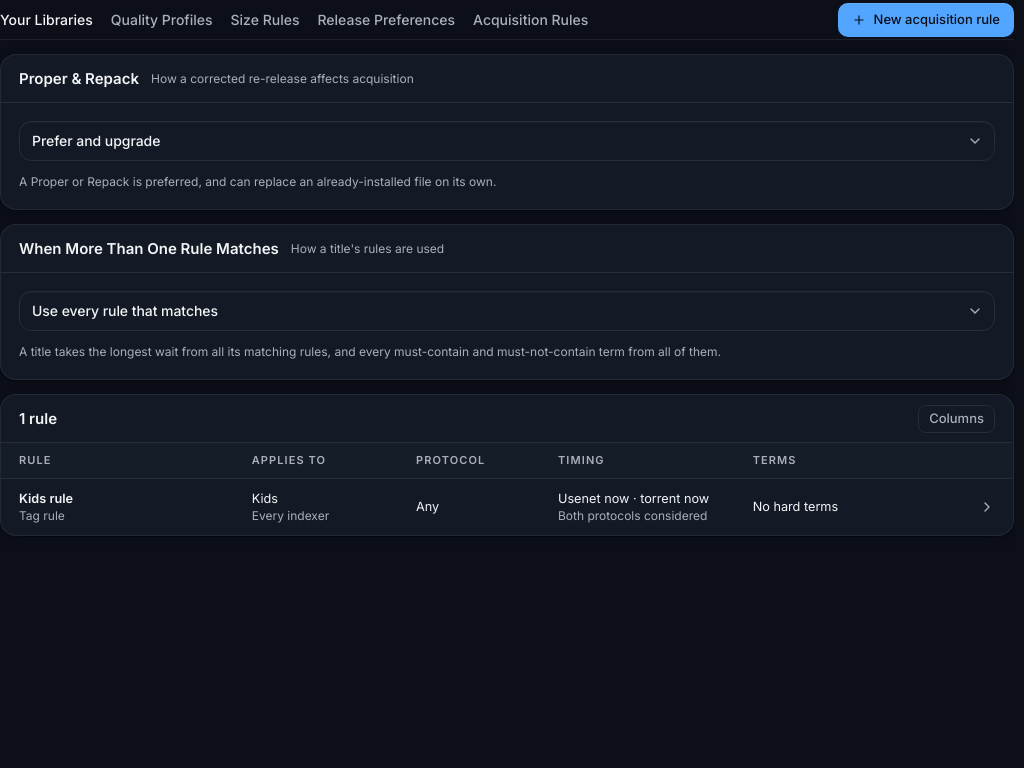
it: acquisition rule drawer › edits an existing rule with PUT to that rule's address and the drawer stays open on it
The width and height of the screenshot is (1024, 768).
Click the text "Kids rule" at (46, 498), box 19,491 -> 73,506
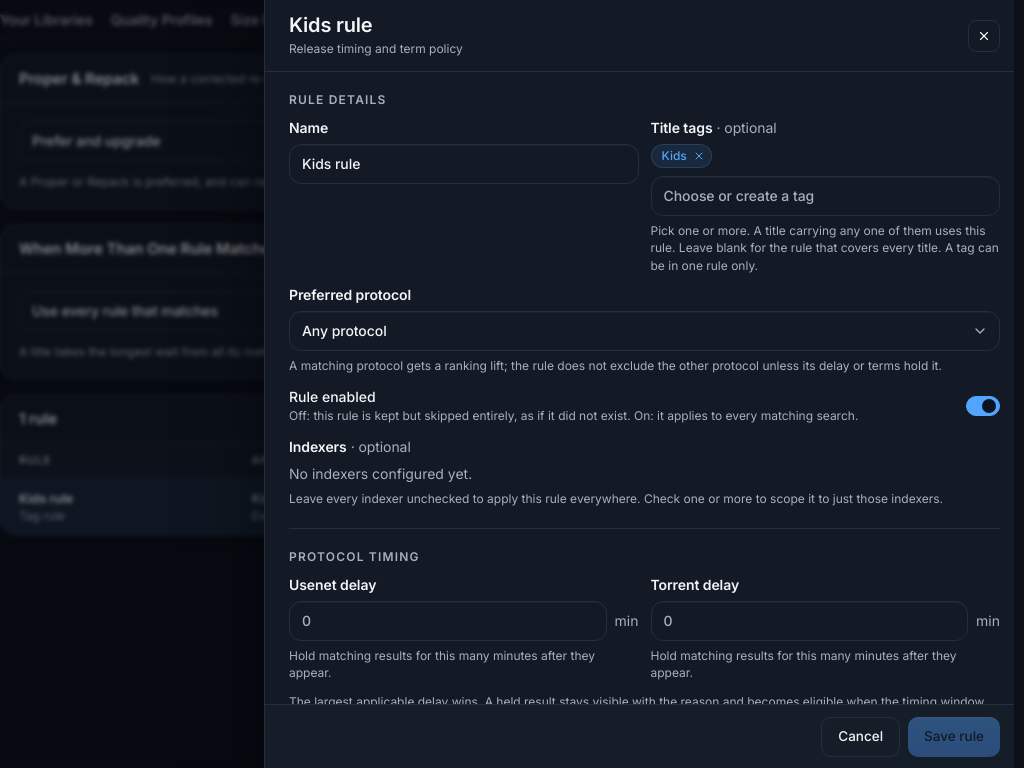
Now the dialog is shown
Replace the text in the field with placeholder "Global release timing" with "Kids rule 2" at (464, 164), box 289,144 -> 638,184
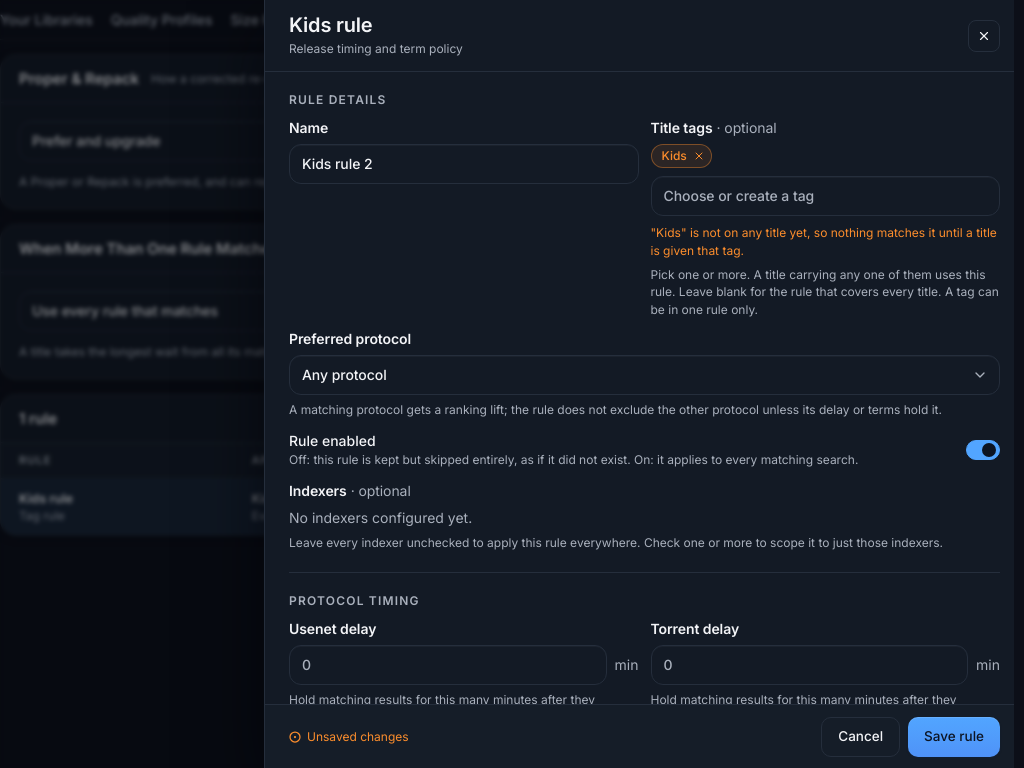
Click the button "Save rule" at (954, 736), box 908,716 -> 1000,756
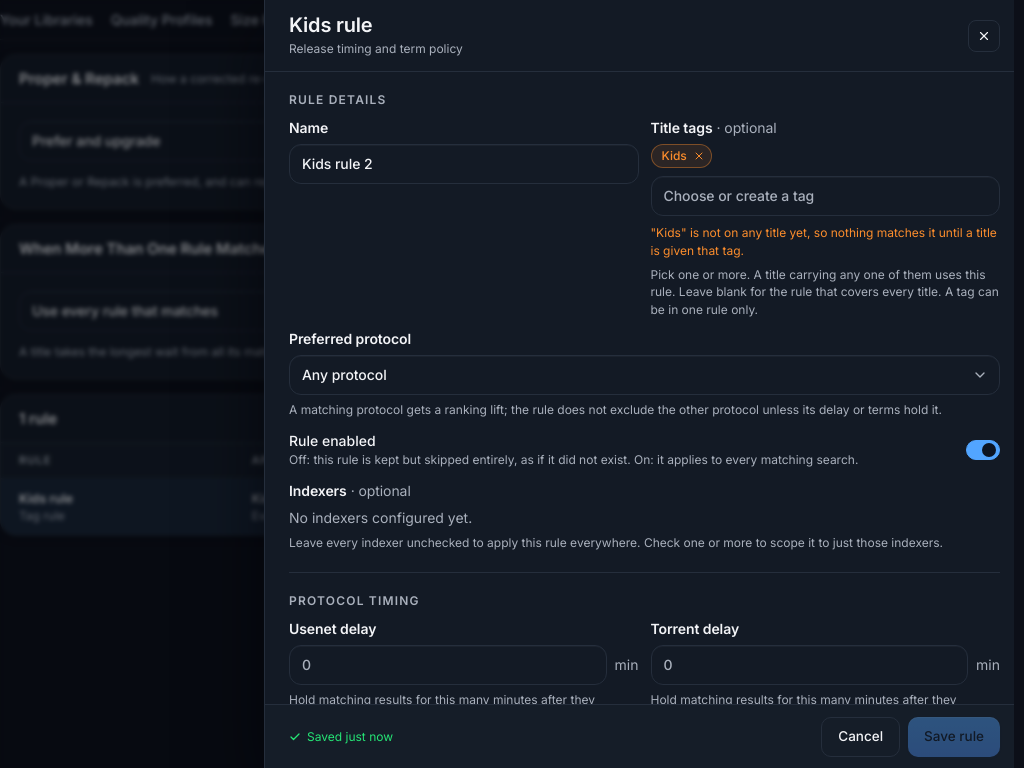
Now the dialog is shown
Now the text "Saved just now" is shown, box 307,728 -> 393,746
